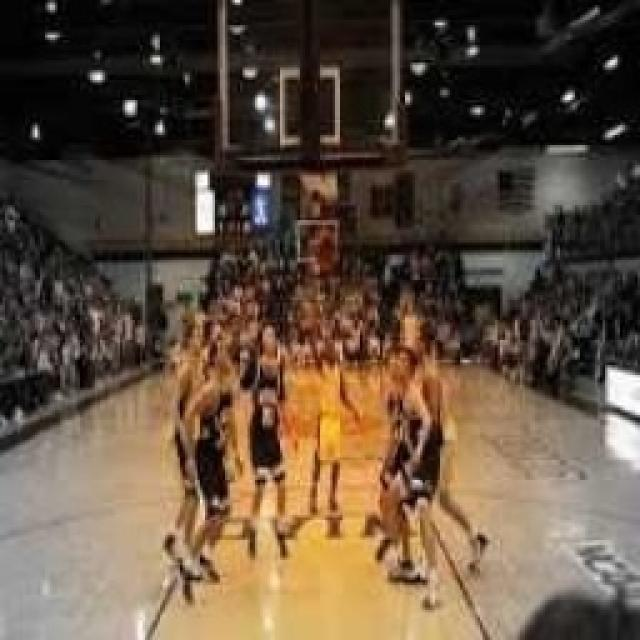rim: (312, 228, 334, 272)
